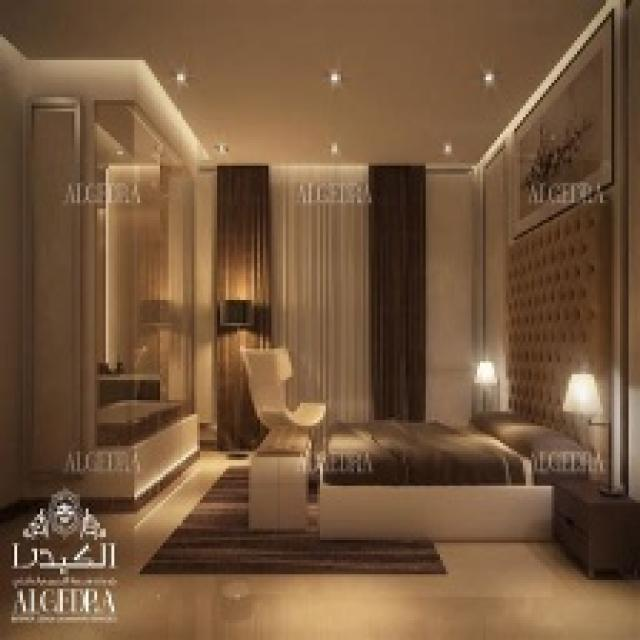Bed: (317, 409, 600, 540)
